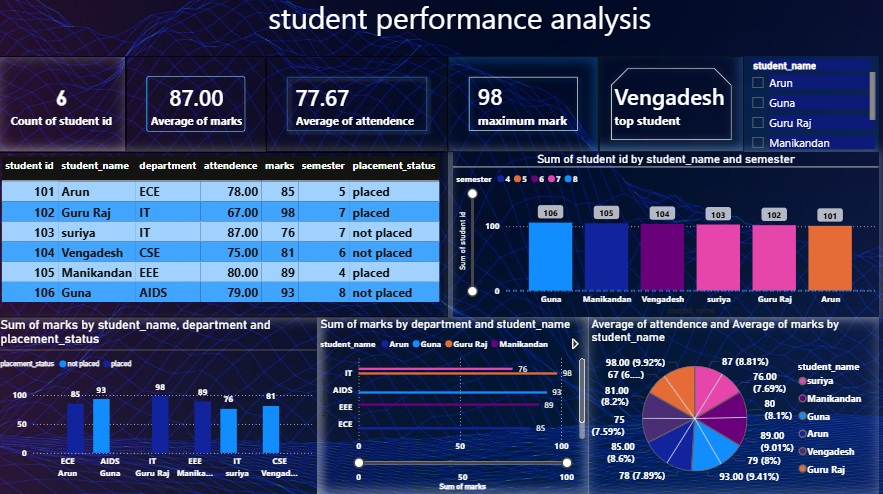

What the dashboard file says about the page in this screenshot:
{"tool":"powerbi","page":{"name":"Page 1","canvas":[1280,720],"ordinal":0},"visuals":[{"type":"clusteredColumnChart","fields":{"Category":["student_analysis students.student_name","student_analysis students.department"],"Series":["student_analysis students.placement_status"],"Y":["Sum(student_analysis students.marks)"]},"box":[0,465.4,461,254.6],"z":0},{"type":"card","fields":{"Values":["CountNonNull(student_analysis students.student_id)"]},"box":[0,89.3,185.8,138.2],"z":1000},{"type":"cardVisual","fields":{"Data":["Avg(student_analysis students.marks)"]},"box":[185.8,89.3,201.6,138.2],"z":2000},{"type":"tableEx","fields":{"Values":["Sum(student_analysis students.student_id)","student_analysis students.student_name","student_analysis students.department","student_analysis students.attendence","student_analysis students.marks","student_analysis students.semester","student_analysis students.placement_status"]},"box":[0,227.5,649.4,237.6],"z":3000},{"type":"pieChart","fields":{"Category":["student_analysis students.student_name"],"Y":["Avg(student_analysis students.attendence)","Avg(student_analysis students.marks)"]},"box":[851.7,465.4,418.5,254.6],"z":4000},{"type":"cardVisual","fields":{"Data":["Avg(student_analysis students.attendence)"]},"box":[387.4,89.3,262.1,138.2],"z":5000},{"type":"lineStackedColumnComboChart","fields":{"Category":["student_analysis students.student_name"],"Series":["student_analysis students.semester"],"Y":["Sum(student_analysis students.student_id)"]},"box":[656.6,227.5,613.4,237.6],"z":6000},{"type":"cardVisual","fields":{"Data":["student_analysis students.top student"]},"box":[866.9,89.3,208.8,138.2],"z":7000},{"type":"clusteredBarChart","fields":{"Category":["student_analysis students.department"],"Y":["Sum(student_analysis students.marks)"],"Series":["student_analysis students.student_name"]},"box":[461,465.4,390.7,254.6],"z":8000},{"type":"textbox","box":[0,0,1270.2,89.3],"z":9000},{"type":"slicer","fields":{"Values":["student_analysis students.student_name"]},"box":[1075.7,89.3,194.4,138.2],"z":10000},{"type":"cardVisual","fields":{"Data":["student_analysis students.maximum mark"]},"box":[649.4,89.3,217.4,138.2],"z":11000}]}

Visuals, with their boxes in screenshot pixels (x1, y1, x2, y2), scaled from the page's 1280x720 canvas onto the 883x494 screenshot:
clusteredColumnChart - student_analysis students.student_name x student_analysis students.department: locate(0, 319, 318, 493)
card - CountNonNull(student_analysis students.student_id): locate(0, 61, 128, 156)
cardVisual - Avg(student_analysis students.marks): locate(128, 61, 267, 156)
tableEx - Sum(student_analysis students.student_id) x student_analysis students.student_name: locate(0, 156, 448, 319)
pieChart - student_analysis students.student_name x Avg(student_analysis students.attendence): locate(588, 319, 876, 493)
cardVisual - Avg(student_analysis students.attendence): locate(267, 61, 448, 156)
lineStackedColumnComboChart - student_analysis students.student_name x student_analysis students.semester: locate(453, 156, 876, 319)
cardVisual - student_analysis students.top student: locate(598, 61, 742, 156)
clusteredBarChart - student_analysis students.department x Sum(student_analysis students.marks): locate(318, 319, 588, 493)
textbox: locate(0, 0, 876, 61)
slicer - student_analysis students.student_name: locate(742, 61, 876, 156)
cardVisual - student_analysis students.maximum mark: locate(448, 61, 598, 156)
